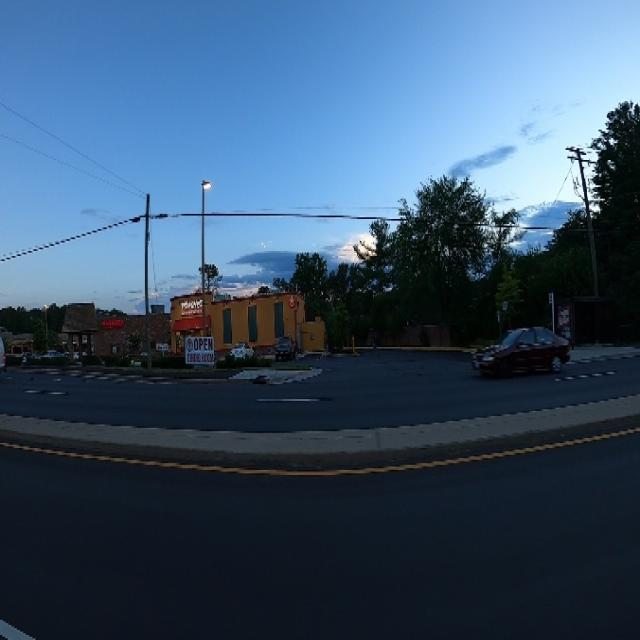cars: (471, 324, 568, 388), (270, 332, 298, 362), (228, 337, 256, 366)
